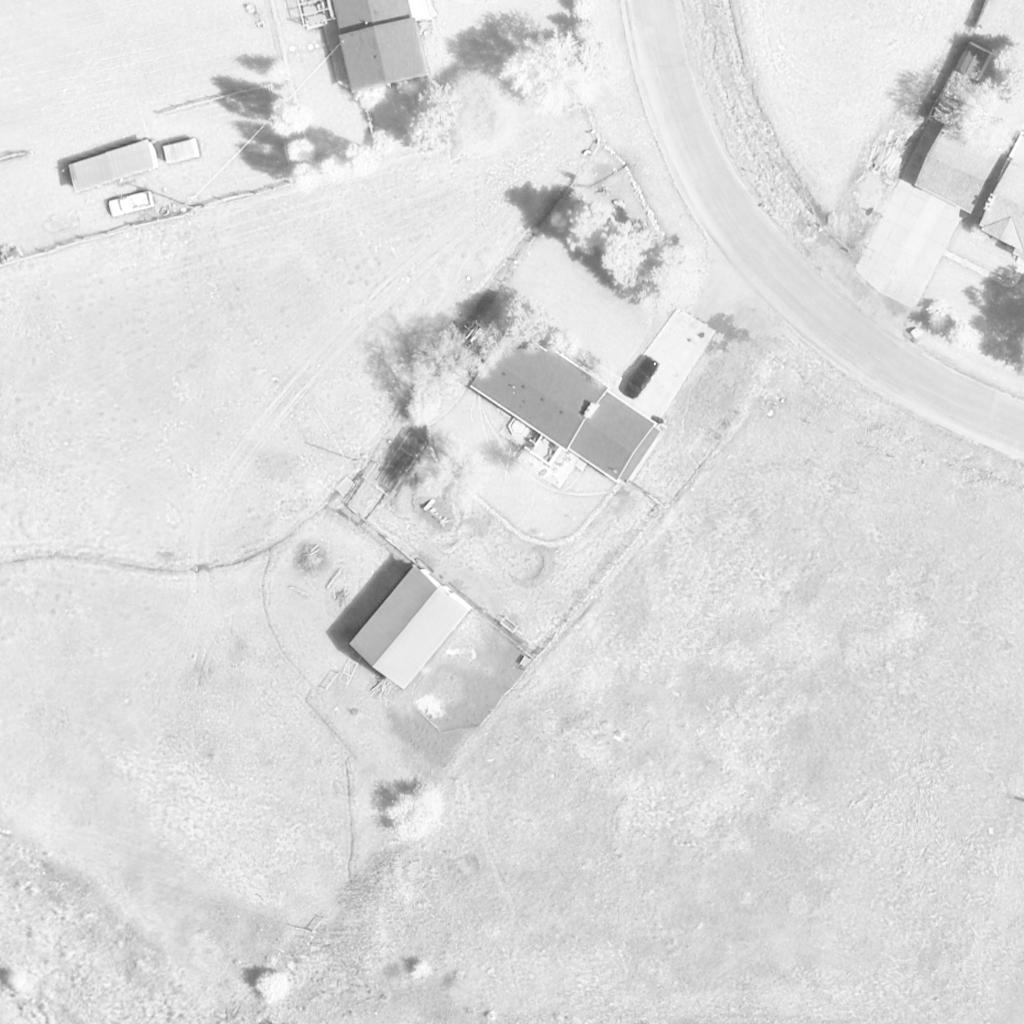vehicle: (69, 143, 159, 195), (621, 355, 661, 401), (108, 191, 156, 217)
